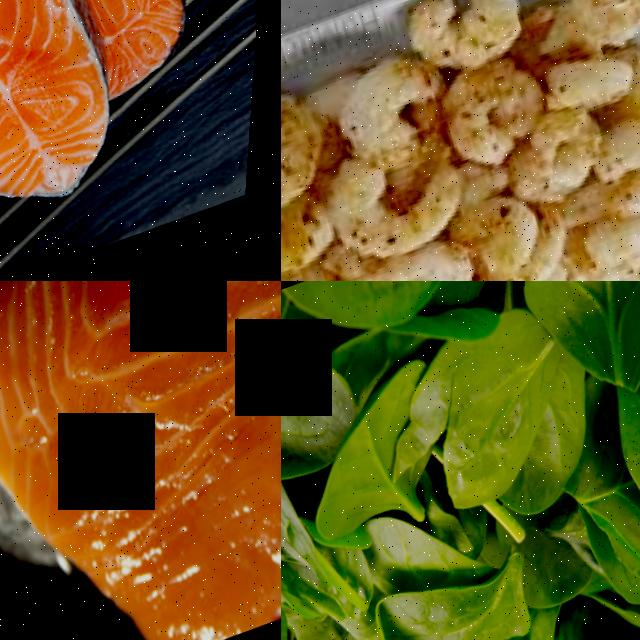salmon: (0, 281, 281, 640), (0, 0, 152, 258), (59, 0, 231, 98)
shrimp: (325, 135, 483, 272), (329, 50, 466, 183), (429, 51, 563, 178), (401, 0, 534, 87), (281, 73, 344, 222), (589, 103, 640, 227)
spinach: (413, 307, 590, 510), (371, 553, 549, 640), (515, 281, 640, 402), (281, 342, 373, 483), (602, 382, 640, 542)
